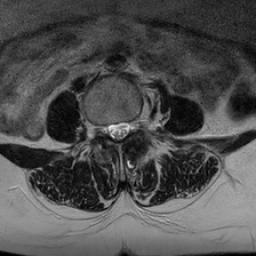CCS_normal: (114, 114, 121, 149)
LFS_normal: (129, 109, 138, 139)
LLS_normal: (121, 115, 129, 142)
RFS_normal: (98, 115, 106, 142)
RLS_normal: (106, 114, 114, 144)
